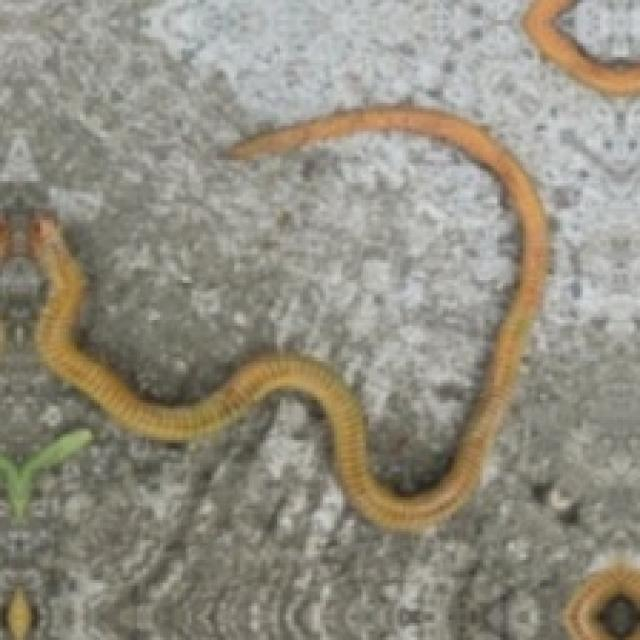gervais worm snake: (29, 106, 546, 529), (522, 0, 639, 94), (561, 559, 640, 639)
